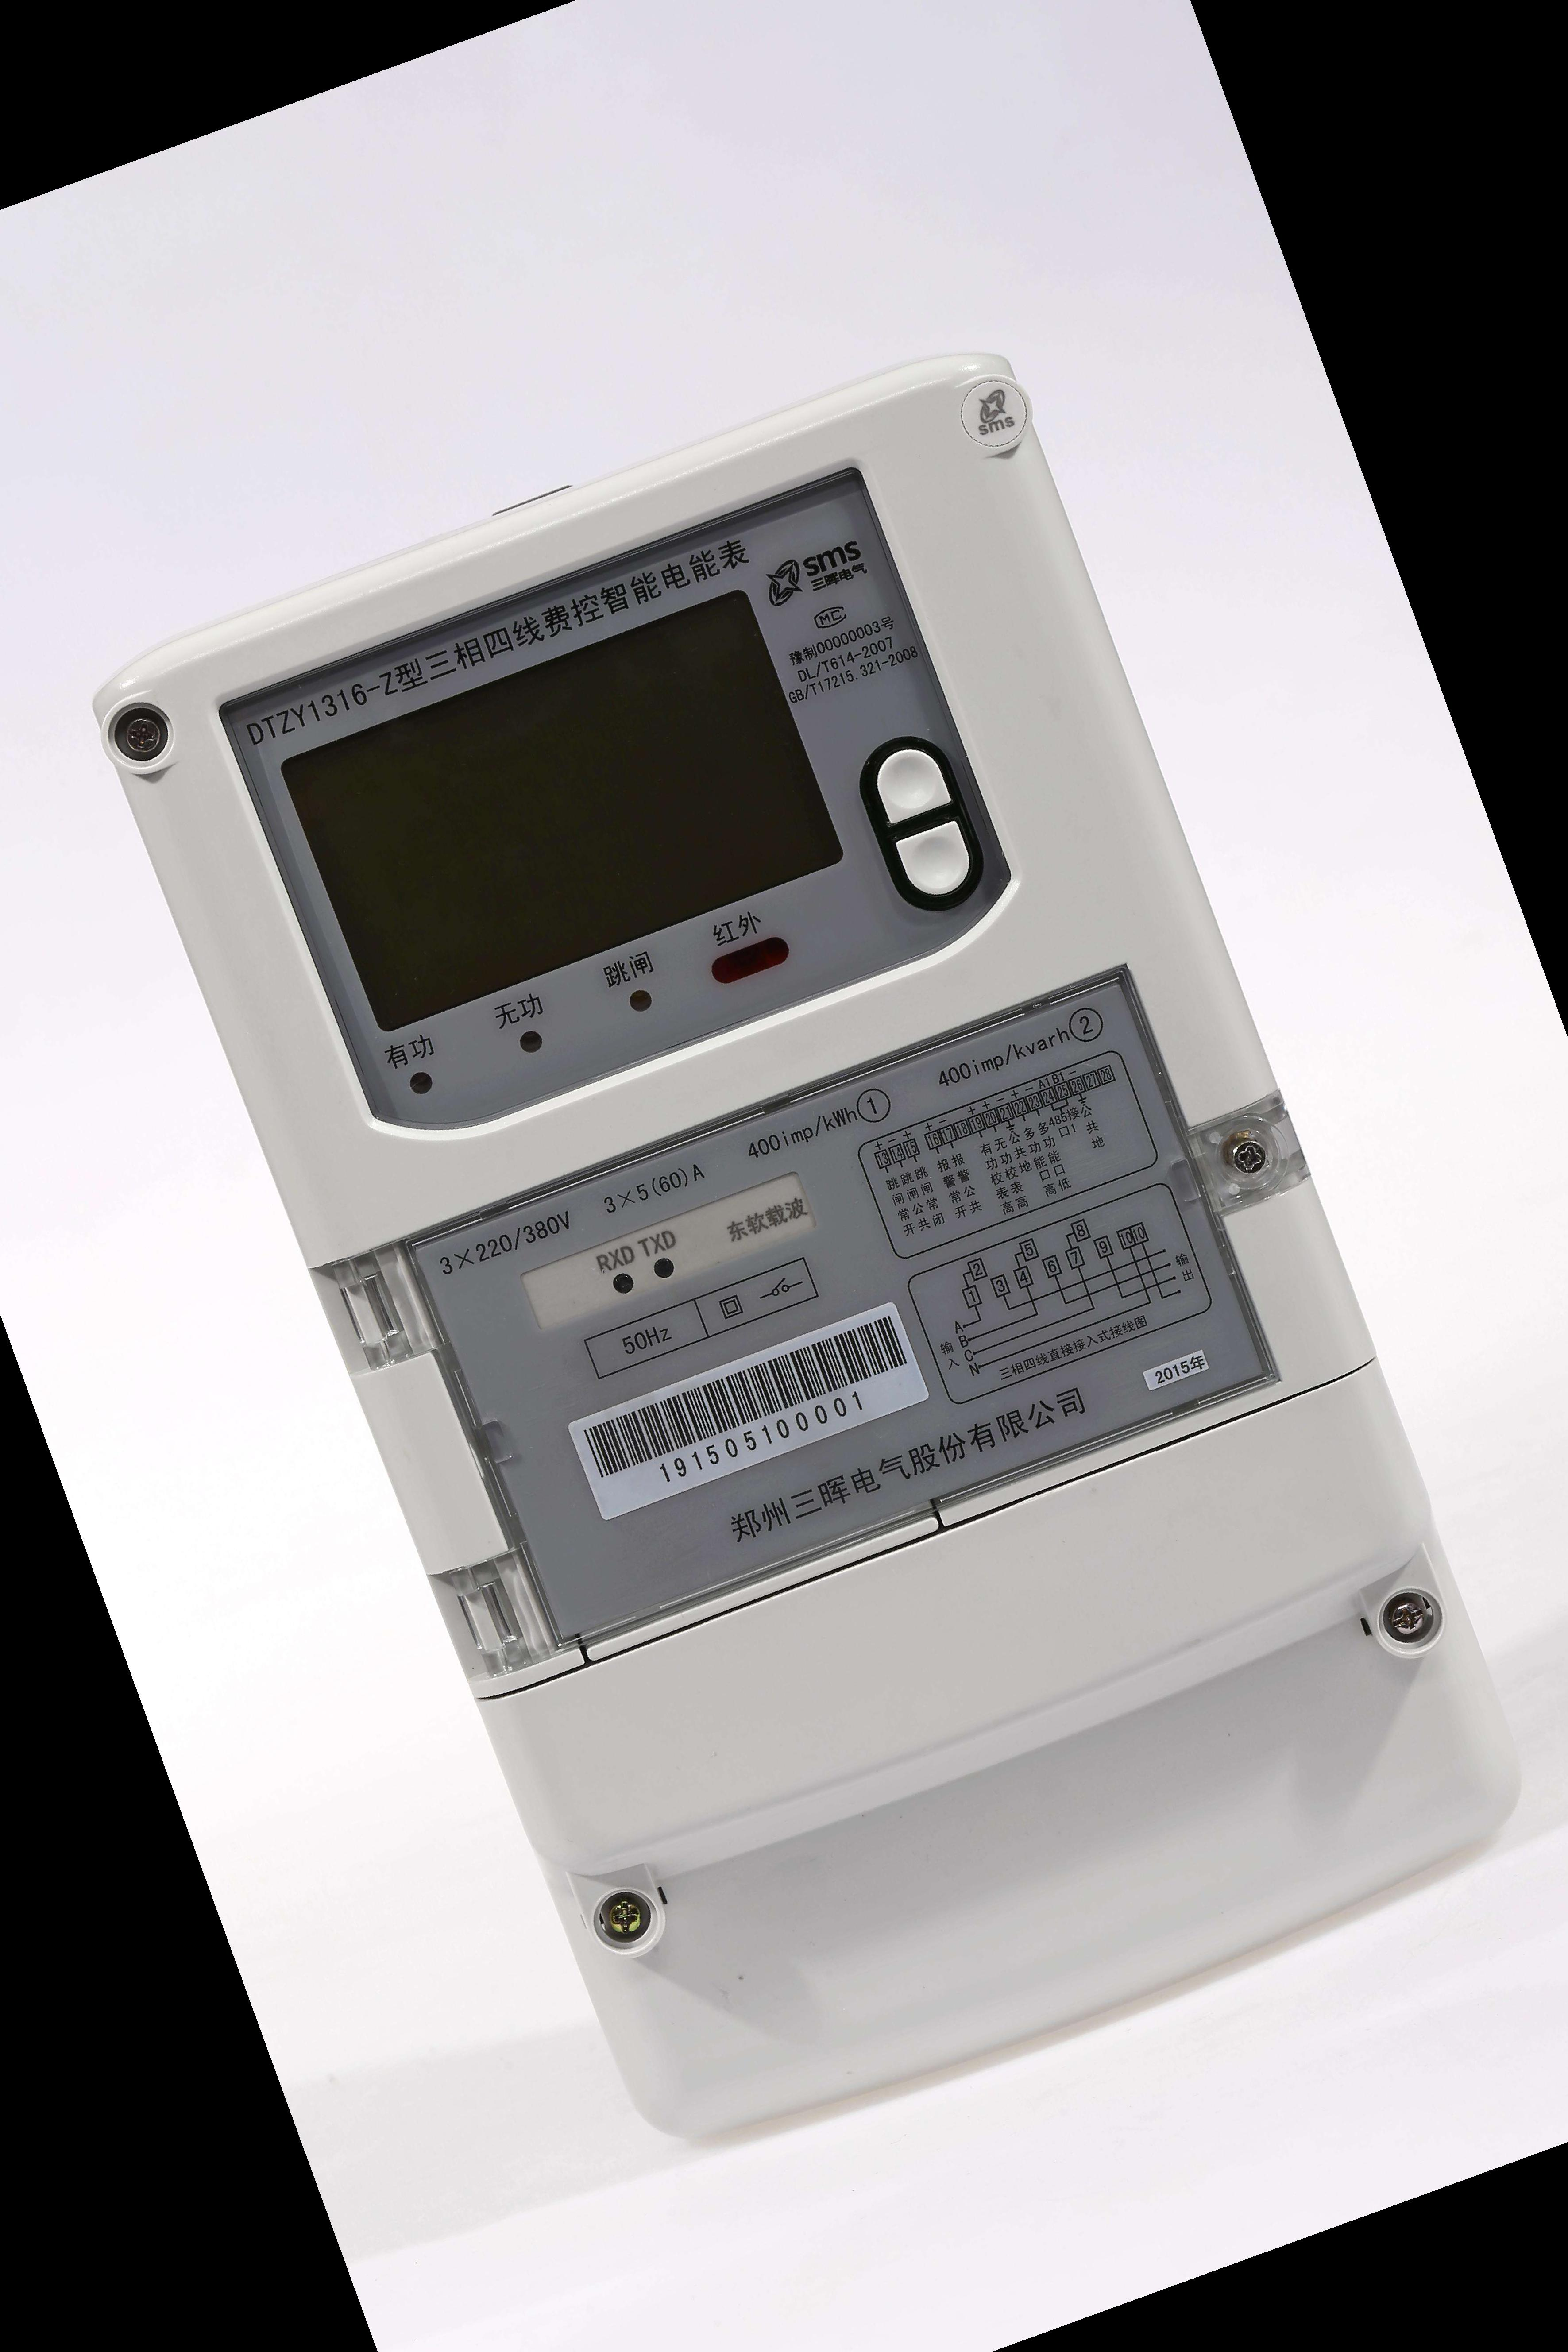digital: (110, 355, 1428, 1876)
